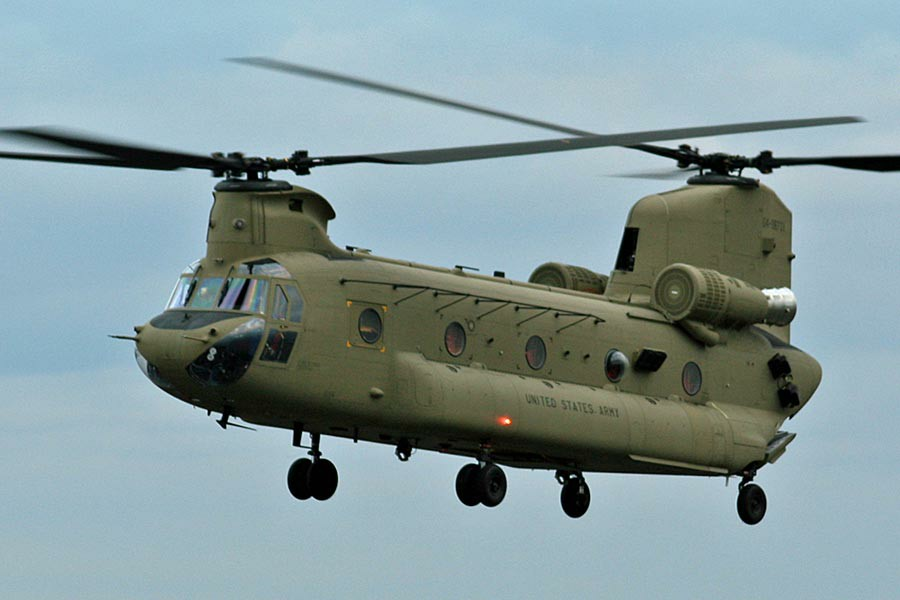chinook: (52, 75, 891, 523)
